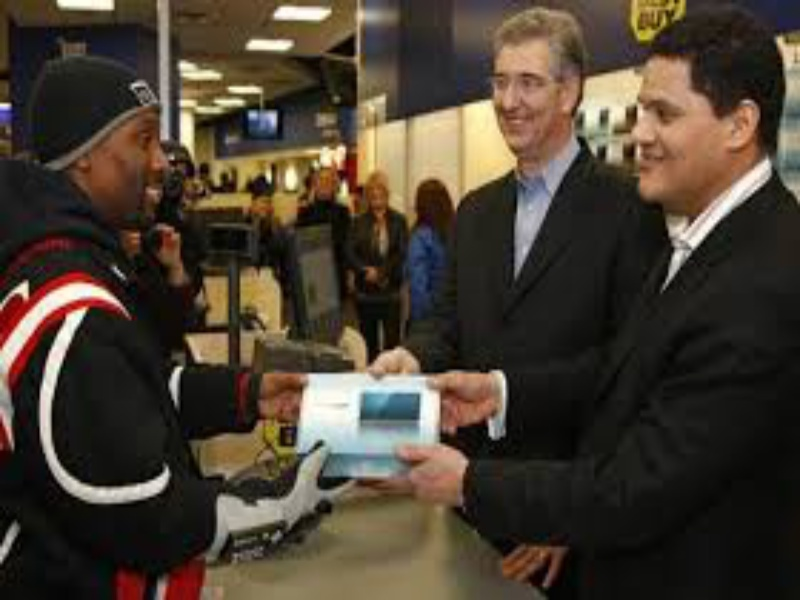TsisyArotava: (607, 23, 766, 215), (58, 53, 184, 250), (480, 11, 584, 159)
